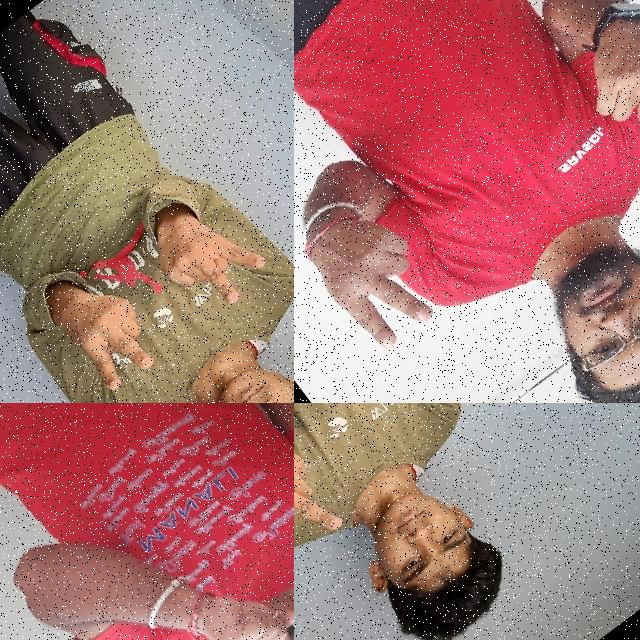Fist Mouth: (159, 511, 294, 640)
Reversed Victory: (294, 171, 460, 369), (21, 239, 180, 403), (134, 182, 288, 338), (547, 0, 640, 185), (294, 406, 362, 591)
